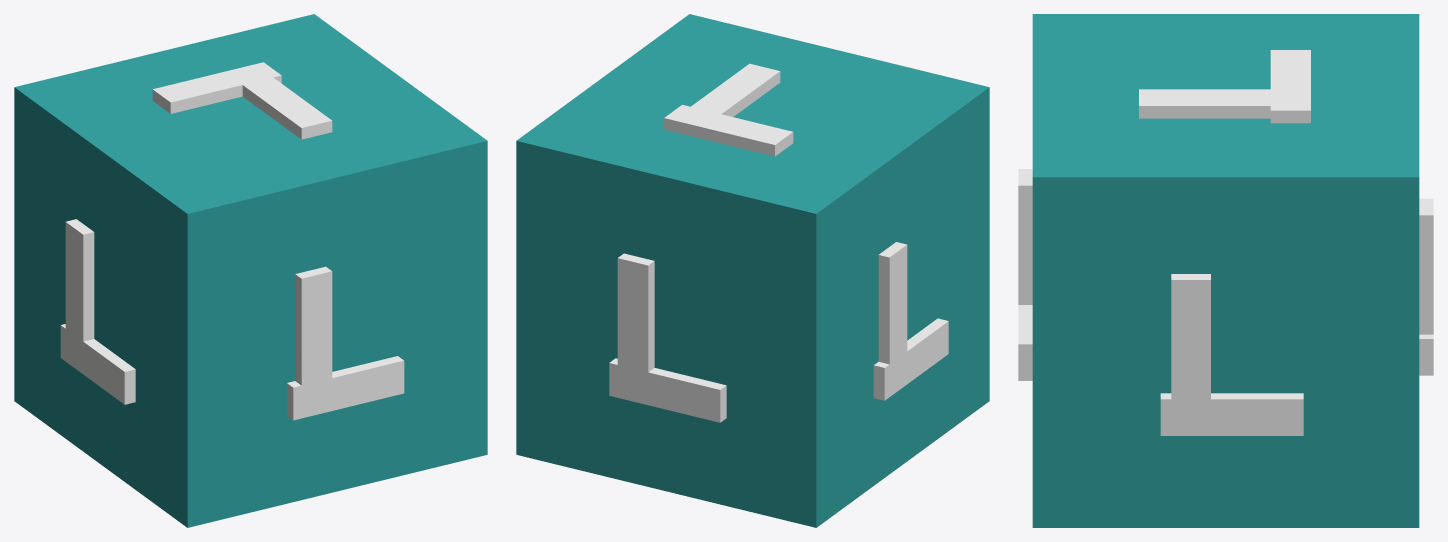
The model's file is DISTRACTOR_7.glb.
3 renders of one model, left to right at view 1: azimuth 30°, elevation 25°; view 2: azimuth 150°, elevation 25°; view 3: azimuth 270°, elevation 25°, orthographic. The views are drawn at different scales.
Parts seen in each view (by area): view 1: DISTRACTOR_HIGH_7; view 2: DISTRACTOR_HIGH_7; view 3: DISTRACTOR_HIGH_7.
Part boxes in pixels (<box>): DISTRACTOR_HIGH_7: <box>14,14,487,527</box>; DISTRACTOR_HIGH_7: <box>516,14,989,527</box>; DISTRACTOR_HIGH_7: <box>1018,14,1433,527</box>.
Size of the model in its own units: 2.15 by 2.15 by 2.15.
